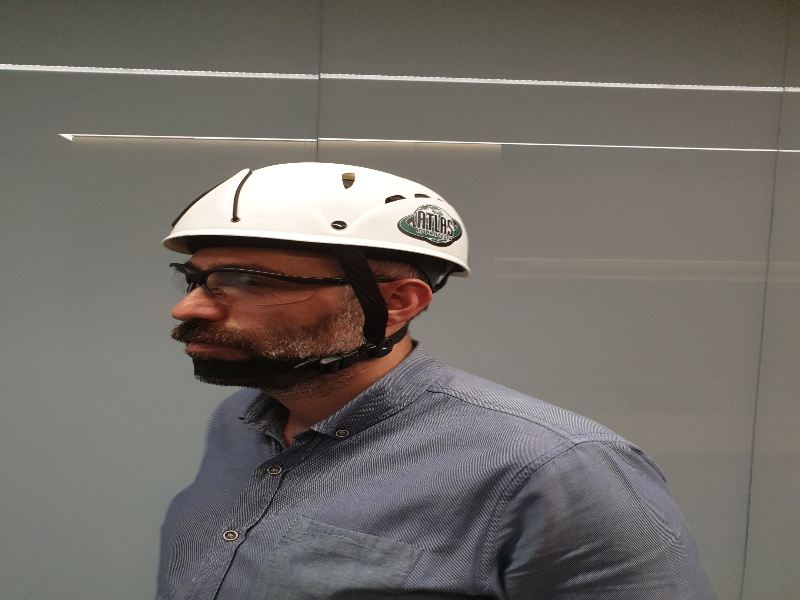Baret: (167, 161, 471, 261)
Gozluk: (168, 261, 391, 306)
